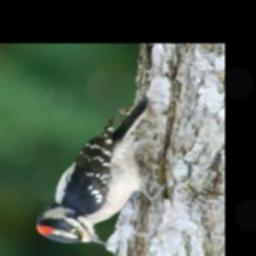Woodpecker: (33, 94, 160, 250)
